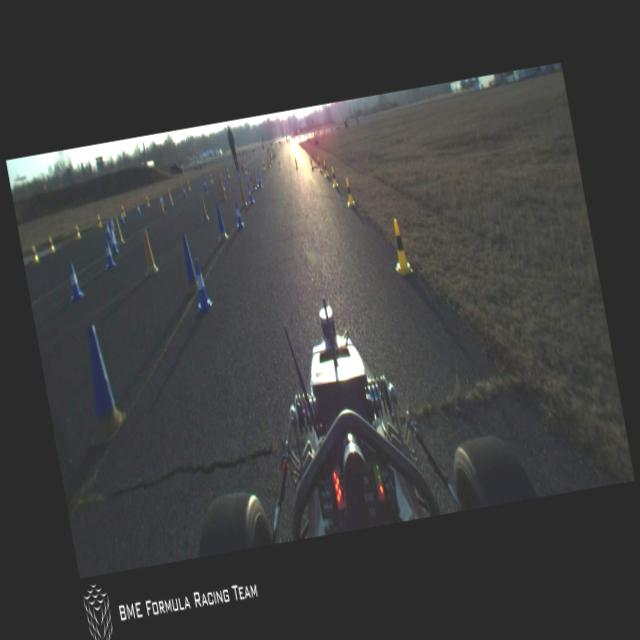blue_cone: (188, 256, 215, 314), (63, 260, 85, 304), (101, 238, 116, 268), (232, 200, 245, 228), (108, 222, 118, 244), (246, 183, 254, 205), (110, 233, 118, 254), (104, 222, 112, 240), (255, 172, 262, 188), (118, 210, 125, 226), (108, 214, 115, 230), (135, 204, 142, 218), (181, 184, 187, 198), (159, 192, 165, 206), (256, 168, 262, 181), (222, 172, 228, 185), (246, 168, 252, 181), (236, 170, 242, 182), (202, 178, 206, 190)
unknown_cone: (70, 320, 132, 450), (176, 232, 200, 296), (136, 228, 159, 278), (212, 200, 229, 243), (197, 190, 210, 222), (236, 182, 248, 210), (156, 194, 168, 219), (216, 178, 228, 202), (166, 186, 174, 208), (248, 168, 256, 190), (264, 153, 270, 168), (215, 168, 220, 178)
yellow_cone: (386, 216, 414, 277), (342, 176, 356, 208), (329, 165, 338, 189), (30, 245, 40, 264), (321, 159, 329, 178), (74, 224, 82, 240), (48, 235, 54, 253), (316, 156, 322, 172), (276, 156, 282, 170), (96, 215, 102, 228), (120, 205, 126, 218), (144, 195, 150, 208), (186, 179, 192, 192), (308, 156, 314, 168), (292, 156, 298, 168), (208, 172, 214, 184), (224, 168, 230, 180), (261, 160, 266, 172), (243, 164, 247, 173)
